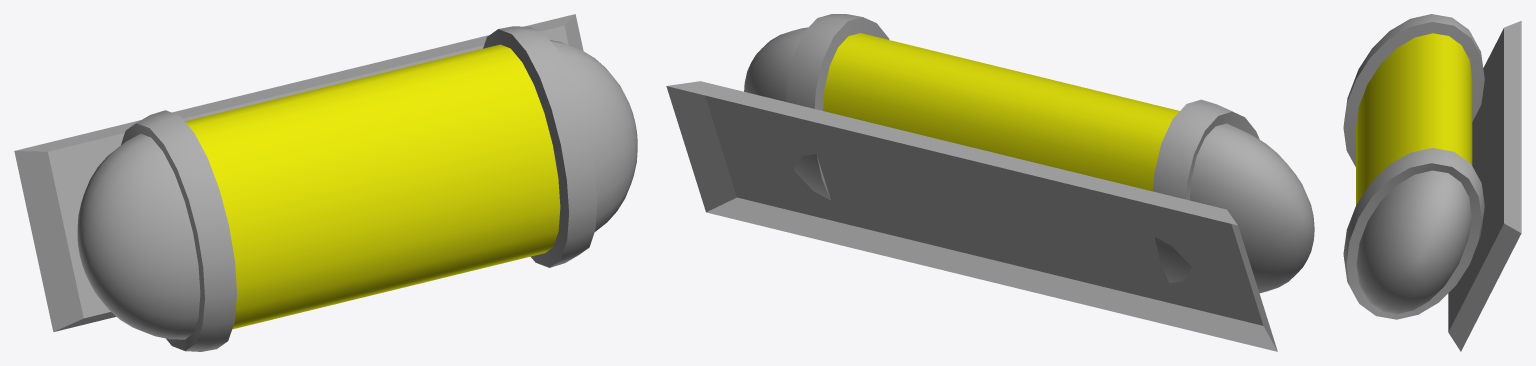
File: SM_Lumiere.fbx
3 views of the same model, side by side, from view 1: azimuth 30°, elevation 25°; view 2: azimuth 150°, elevation 25°; view 3: azimuth 270°, elevation 25° (orthographic). The views are drawn at different scales.
Visible parts, largest first — view 1: SM_Lumiere; view 2: SM_Lumiere; view 3: SM_Lumiere.
Boxes of the visible parts, x1,y1,x2,y2 form: SM_Lumiere: (14,14,637,351); SM_Lumiere: (666,14,1314,351); SM_Lumiere: (1343,14,1521,351).
Size of the model in its own units: 53.31 by 19.16 by 18.86.
